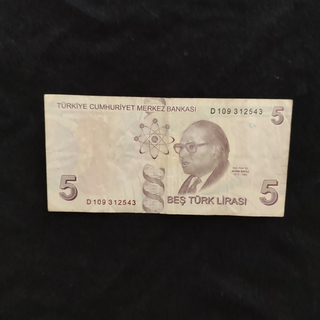5TLBack: (42, 92, 294, 218)
